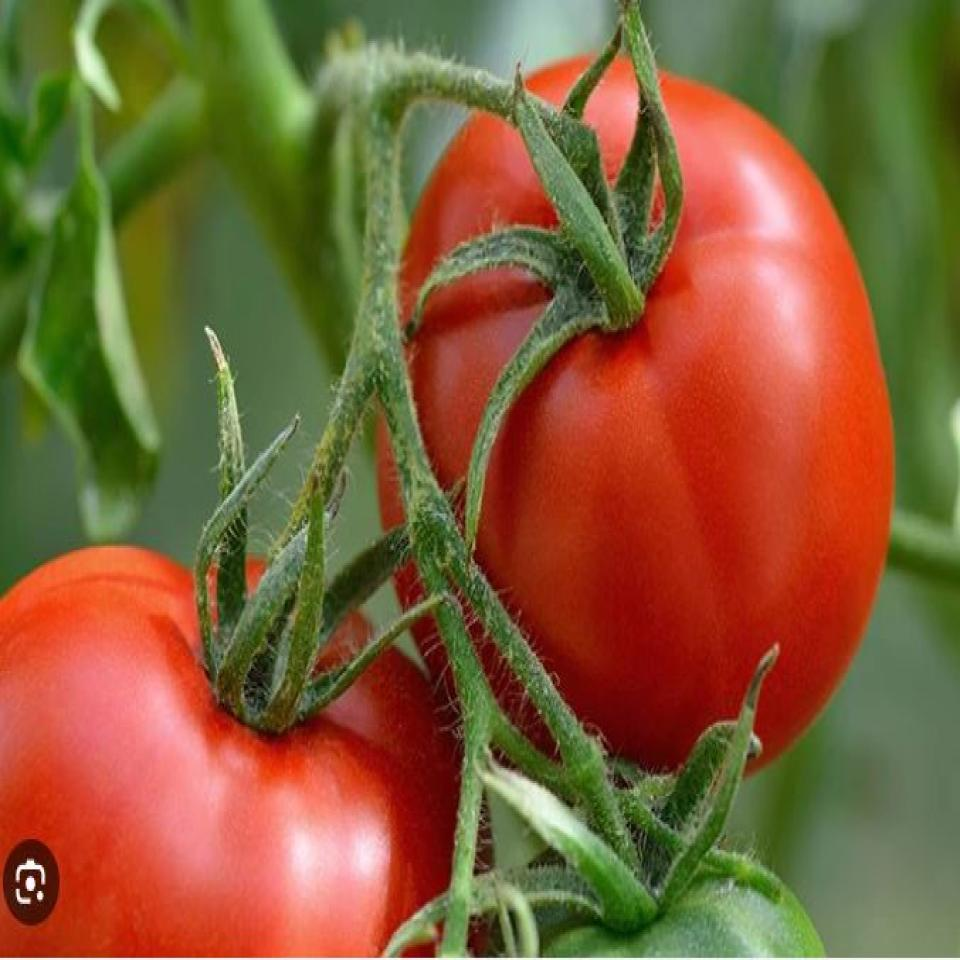Healthy: (396, 24, 916, 777), (0, 446, 482, 960)
